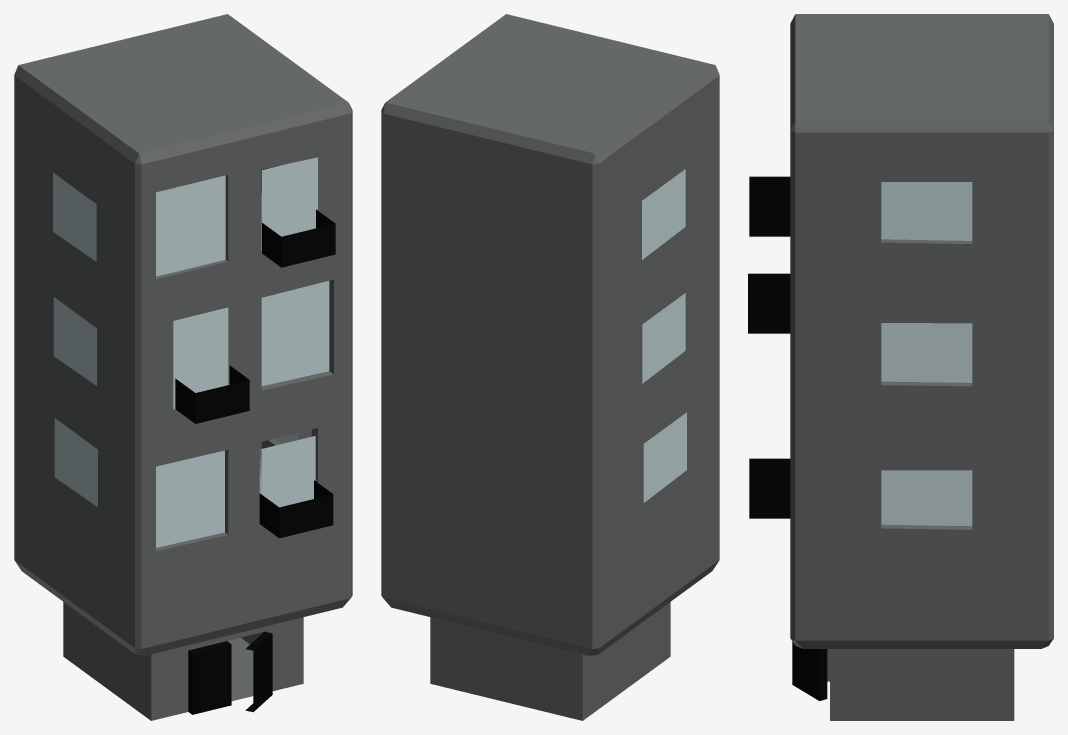
The model's file is flatdonkergrijs!.fbx.
3 views of the same model, side by side, from view 1: azimuth 30°, elevation 25°; view 2: azimuth 150°, elevation 25°; view 3: azimuth 270°, elevation 25° (orthographic). The views are drawn at different scales.
Parts seen in each view (by area): view 1: Cube, Cube.005, Cube.004, Cube.006, Cube.014, Cube.013, Cube.012, Cube.007, Cube.015, Cube.017, Cube.016, Cube.002 (+3 smaller); view 2: Cube, Cube.016, Cube.015, Cube.017; view 3: Cube, Cube.010, Cube.009, Cube.011, Cube.002, Cube.003, Cube.001, Cube.008.
Boxes of the visible parts, <box> form: Cube: <box>14,14,352,720</box>; Cube.005: <box>261,281,329,385</box>; Cube.004: <box>156,175,225,276</box>; Cube.006: <box>156,450,224,547</box>; Cube.014: <box>173,307,228,409</box>; Cube.013: <box>261,157,317,250</box>; Cube.012: <box>259,436,315,507</box>; Cube.007: <box>188,641,231,714</box>; Cube.015: <box>53,172,96,261</box>; Cube.017: <box>54,418,97,506</box>; Cube.016: <box>53,297,96,385</box>; Cube.002: <box>175,365,249,423</box>; Cube: <box>381,14,719,720</box>; Cube.016: <box>642,293,685,383</box>; Cube.015: <box>642,169,685,259</box>; Cube.017: <box>643,412,686,502</box>; Cube: <box>790,14,1053,720</box>; Cube.010: <box>881,323,972,382</box>; Cube.009: <box>881,182,972,240</box>; Cube.011: <box>881,470,972,526</box>; Cube.002: <box>748,273,790,333</box>; Cube.003: <box>749,458,790,518</box>; Cube.001: <box>749,176,790,236</box>; Cube.008: <box>792,642,827,700</box>.
Size of the model in its own units: 538 by 1368 by 617.
